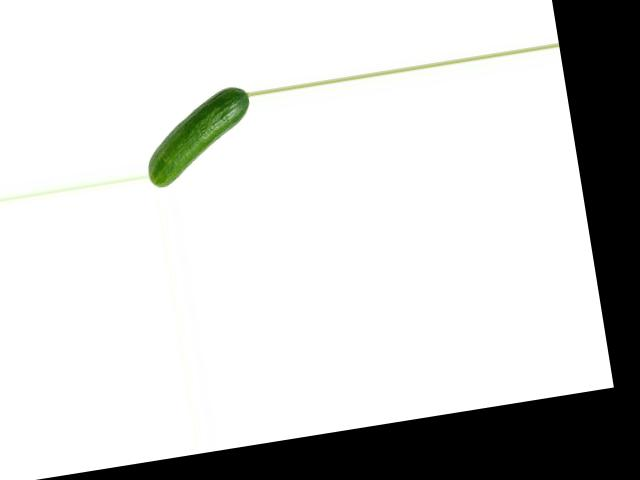cucumber: (136, 83, 261, 188)
